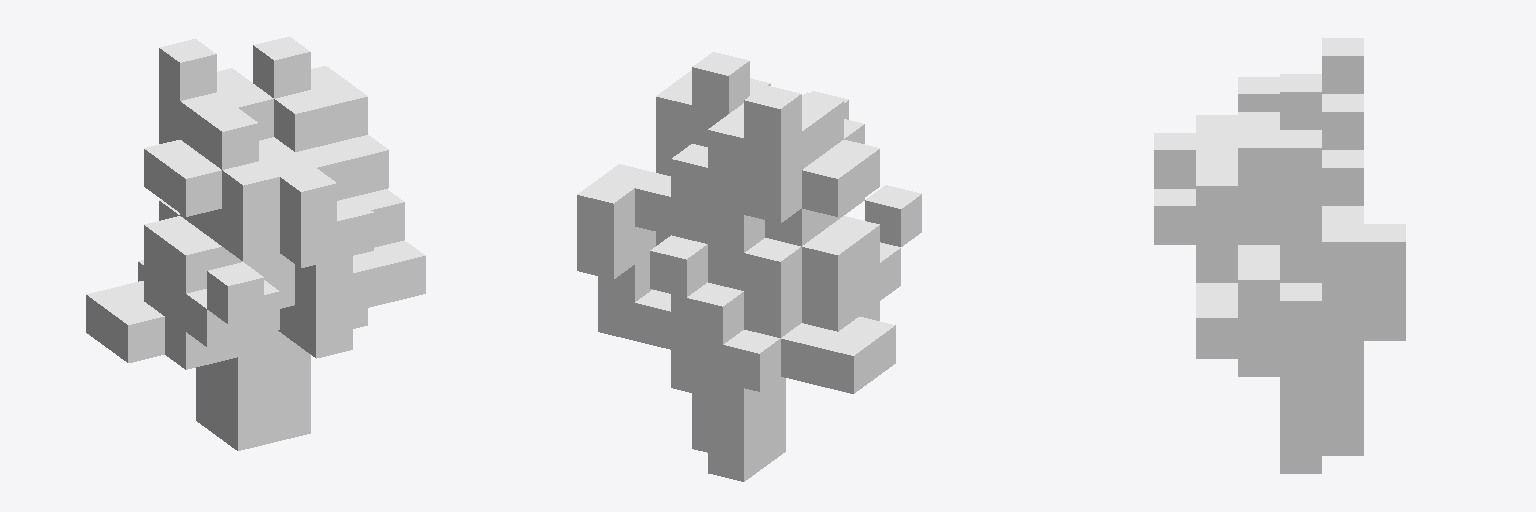
Rendered from start_end-9.obj.
3 renders of one model, left to right at view 1: azimuth 30°, elevation 25°; view 2: azimuth 150°, elevation 25°; view 3: azimuth 270°, elevation 25°, orthographic.
Parts seen in each view (by area): view 1: object 1; view 2: object 1; view 3: object 1.
Part boxes in pixels (x1,y1,x2,y2): object 1: (86,36,425,450); object 1: (577,52,921,481); object 1: (1154,38,1405,473).
Bounding box in the file's own units: 0.7 × 1 × 0.6.